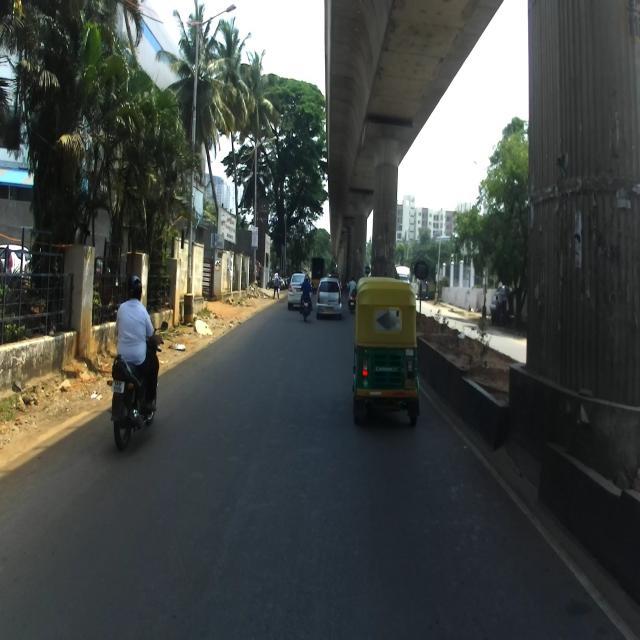autorickshaw: (352, 276, 419, 426)
motorcycle: (106, 321, 168, 451)
